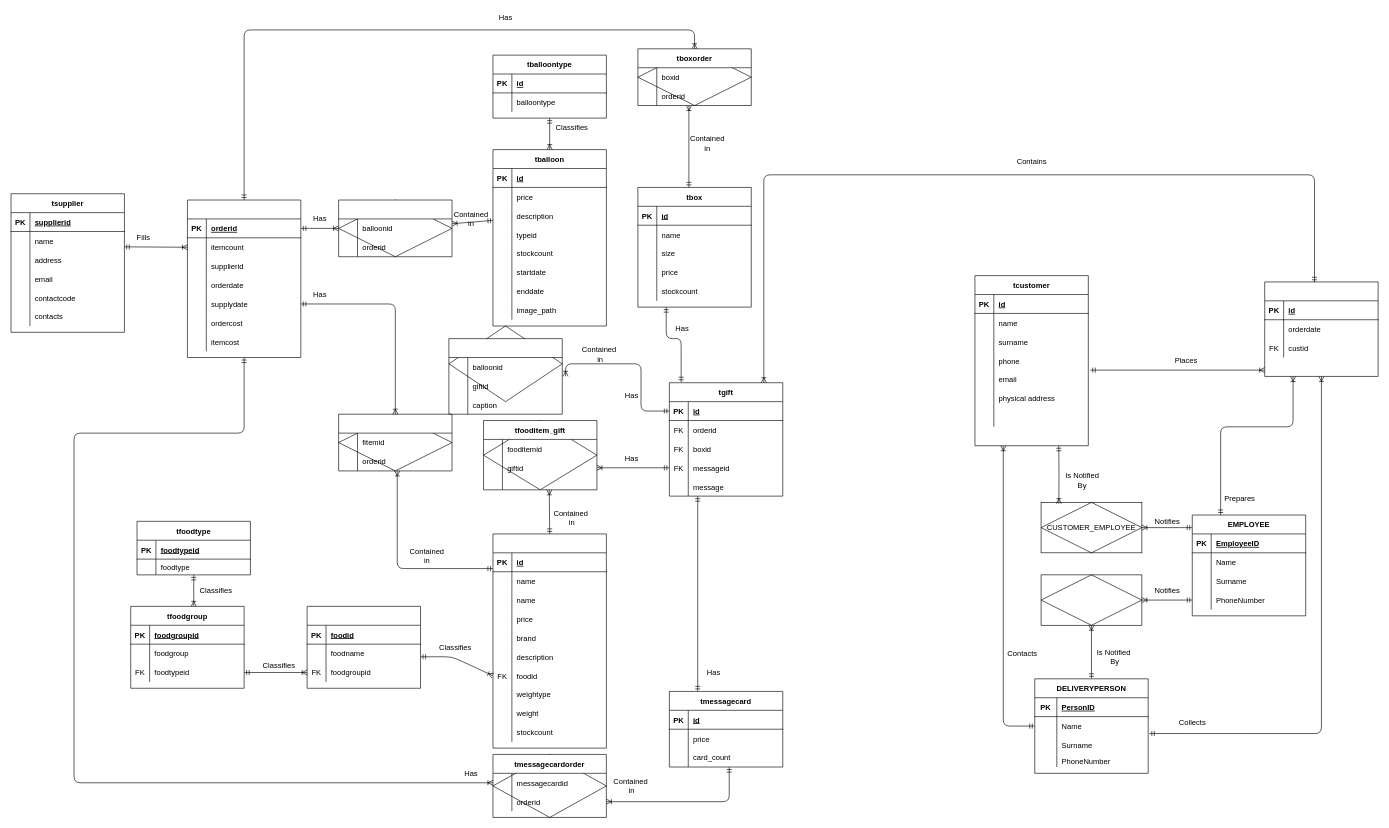
Image size: 1389x828. Some labels were removed from this diagram. Here are the shapes that lost their labels. From the top down, the box of each, then its label:
(338, 199, 452, 257): tballoonorder
(187, 199, 301, 358): titemorder
(1264, 281, 1378, 376): torder
(448, 338, 562, 414): tballoon_gift
(338, 414, 452, 471): tfooditemorder
(1040, 574, 1142, 625): EMPLOYEE_DELIVERY
(306, 606, 421, 688): tfood
(492, 533, 606, 748): tfooditem
